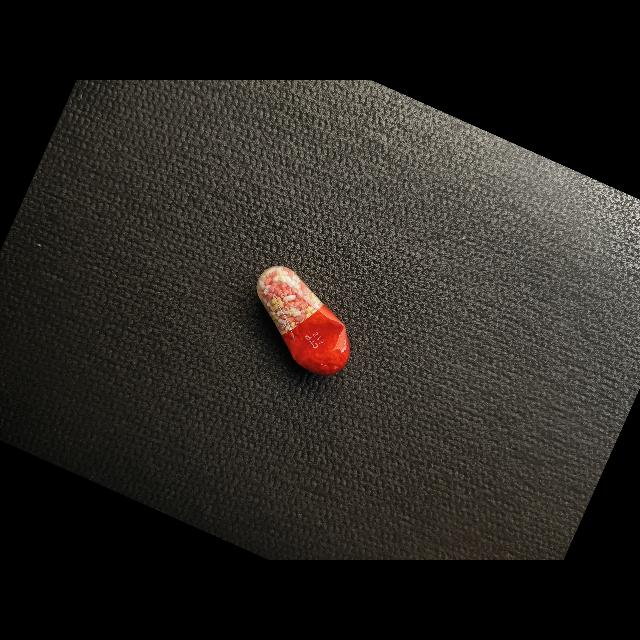Defective Capsule: (257, 266, 350, 375)
